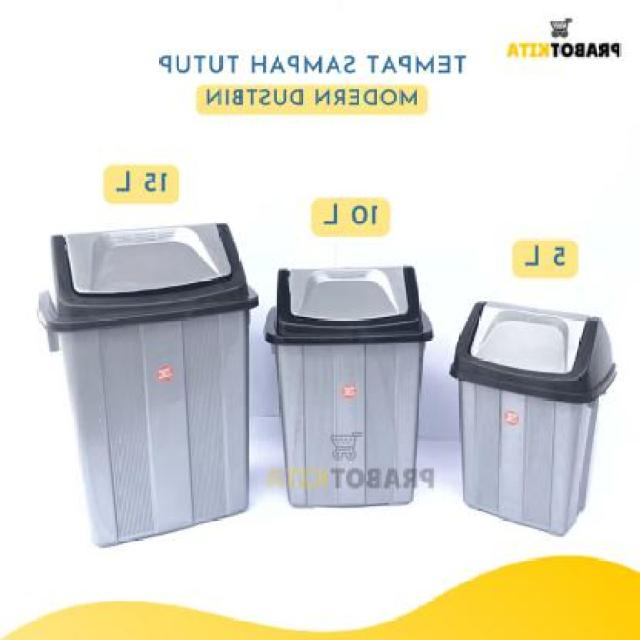garbage container: (31, 215, 264, 562), (262, 261, 438, 522), (442, 290, 622, 542)
